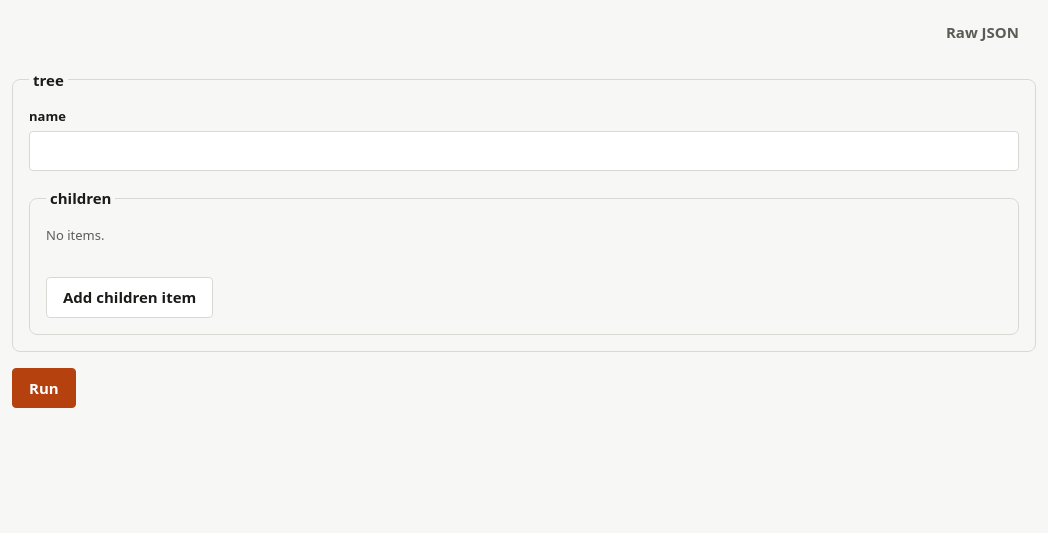
it: SchemaForm › renders recursive schemas without hanging, switching to JSON at the cycle
The image size is (1048, 533).
expect the field labelled "name" is shown: met, box [29,130,1019,171]
Click the button "Add children item" at point(130, 297), box [46,277,213,318]
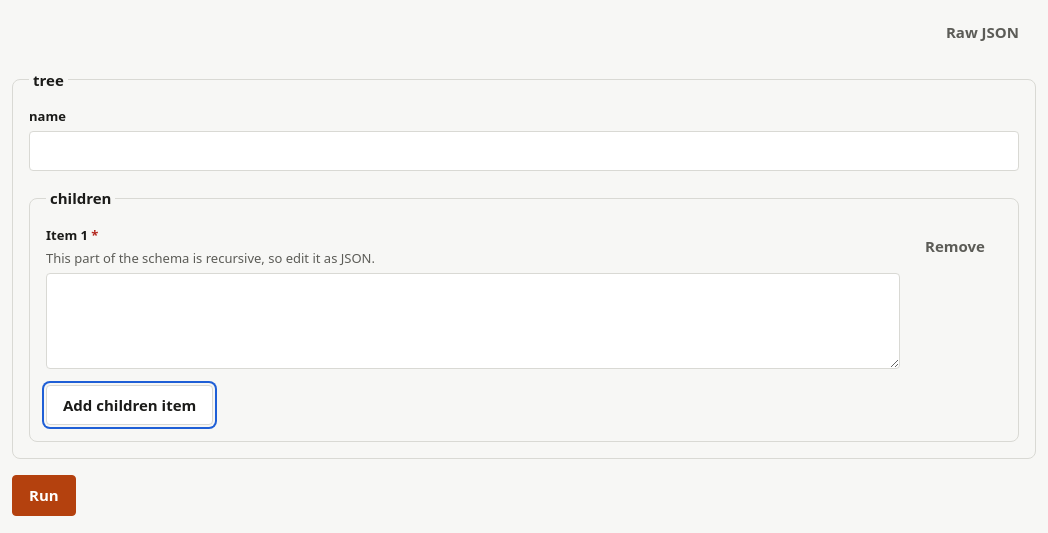
expect the text "This part of the schema is recursive, so edit it as JSON." is shown: met, box [46,249,375,267]
